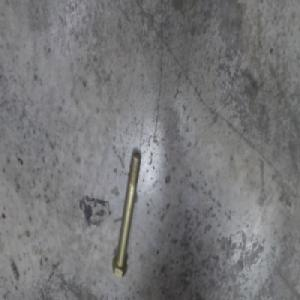Bolt: (113, 151, 143, 274)
